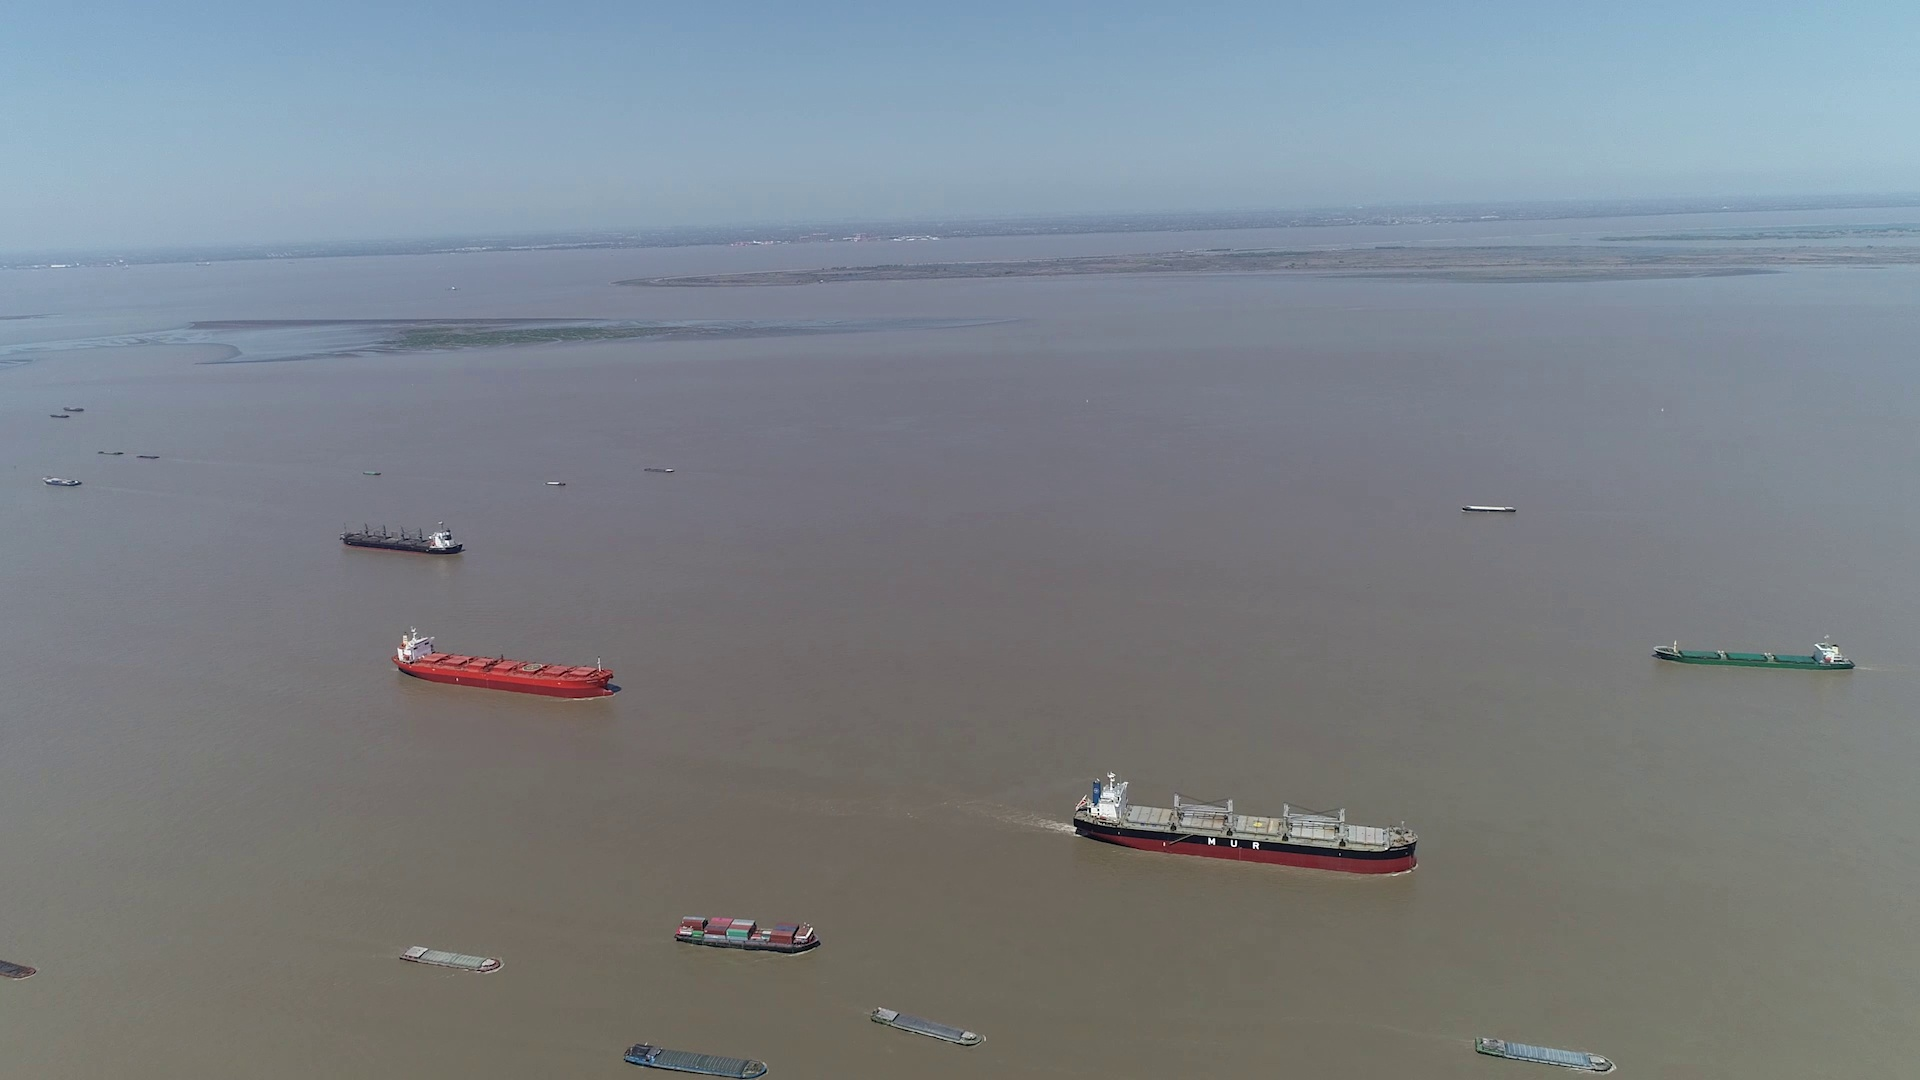ship: (1072, 775, 1418, 873), (394, 629, 613, 699), (1658, 636, 1855, 670), (676, 916, 822, 953), (618, 1043, 769, 1079), (1476, 1036, 1614, 1075), (870, 1007, 984, 1050), (340, 520, 463, 554), (397, 945, 502, 973), (0, 953, 38, 981), (1461, 504, 1516, 514), (44, 473, 82, 487)
